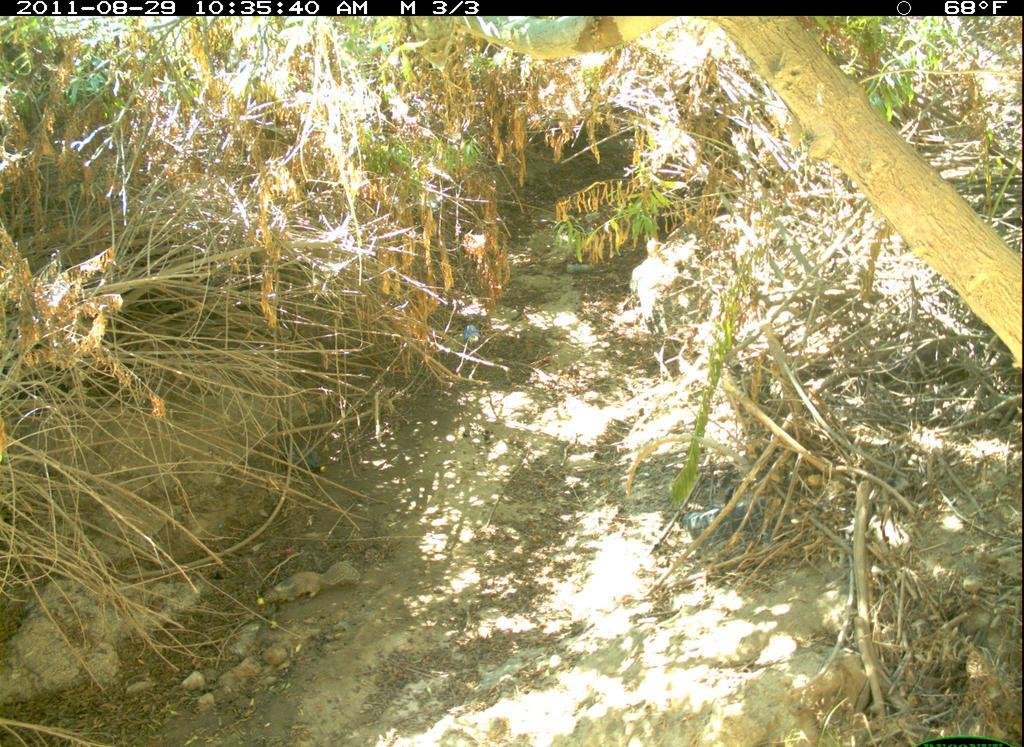squirrel: (255, 556, 382, 612)
